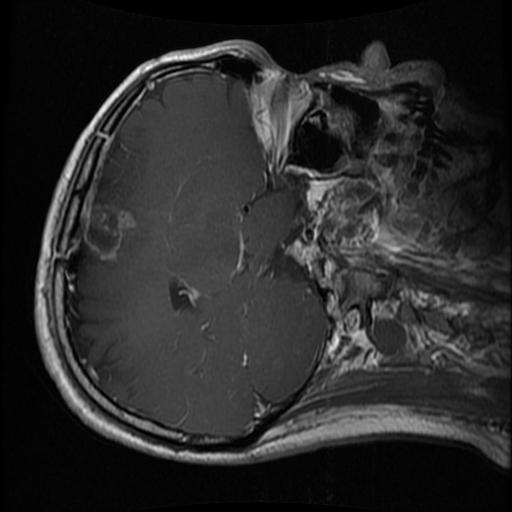glioma: (88, 209, 139, 261)
